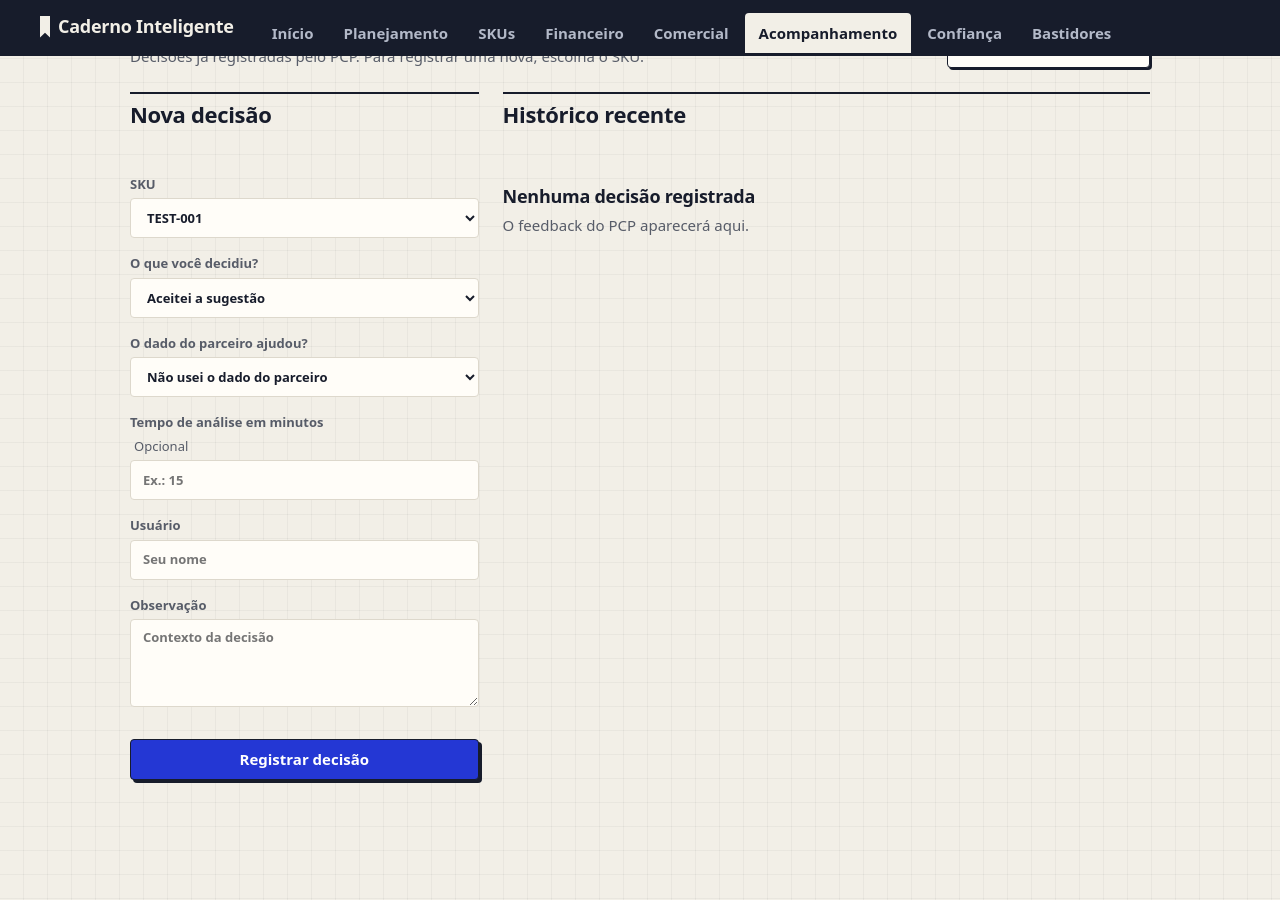
validação de entrada › erros de validação em lista viram mensagem legível
(page scrolled)
Click the button "Registrar decisão" at point(304, 760), box [130,739,479,780]
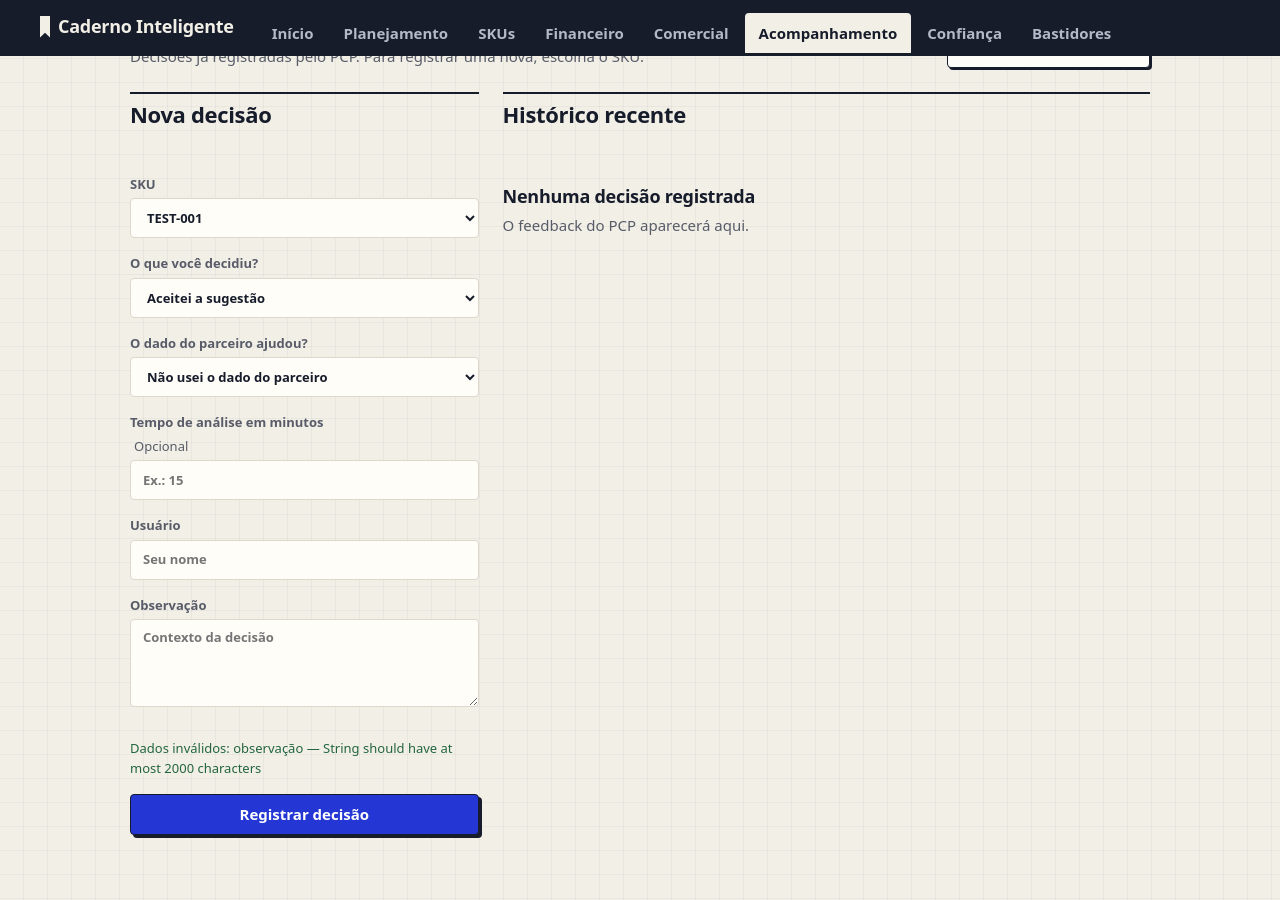
Now the text "Dados inválidos: observação — String should have at most 2000 characters" is shown, box [130,739,479,778]
